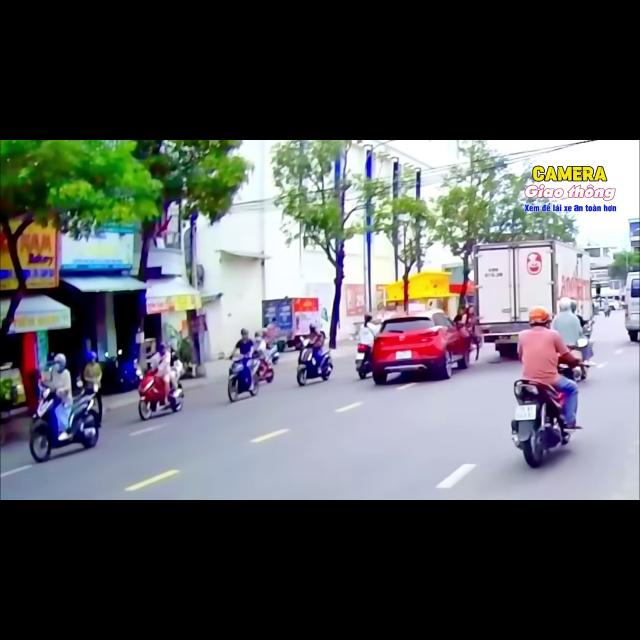car: (372, 309, 471, 384)
motorcycle: (30, 384, 98, 462), (512, 380, 569, 467), (138, 370, 183, 420), (297, 339, 333, 386), (228, 355, 259, 402), (255, 341, 274, 382), (355, 344, 372, 379), (558, 363, 588, 381), (267, 344, 279, 364), (583, 320, 593, 338)
truck: (473, 240, 592, 357), (262, 298, 321, 351)
